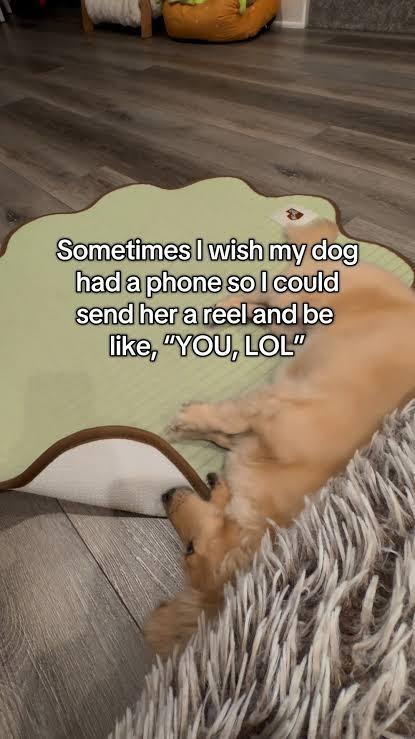adult_dog: (138, 214, 415, 659)
